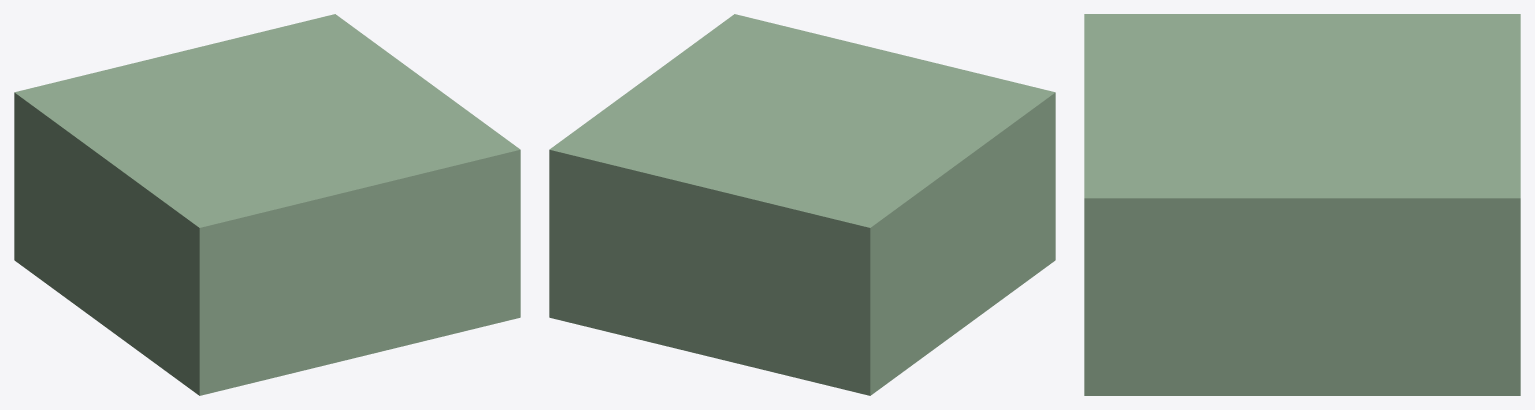
The model's file is Climb_TopHalf.glb.
3 renders of one model, left to right at view 1: azimuth 30°, elevation 25°; view 2: azimuth 150°, elevation 25°; view 3: azimuth 270°, elevation 25°, orthographic. The views are drawn at different scales.
Visible parts, largest first — view 1: Climb_TopHalf_body; view 2: Climb_TopHalf_body; view 3: Climb_TopHalf_body.
Boxes of the visible parts, bbox=[...] form: Climb_TopHalf_body: bbox=[14, 14, 520, 395]; Climb_TopHalf_body: bbox=[549, 14, 1055, 395]; Climb_TopHalf_body: bbox=[1084, 14, 1520, 395].
Bounding box in the file's own units: 1 × 0.5 × 1.
